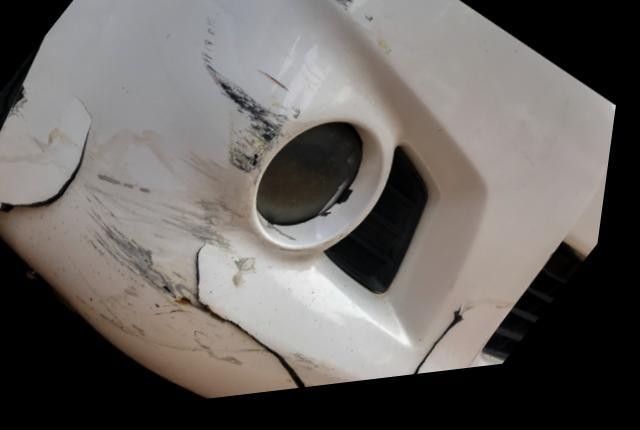crack: (199, 252, 317, 397), (0, 96, 97, 213)
scratch: (73, 21, 304, 364), (319, 0, 357, 23)
